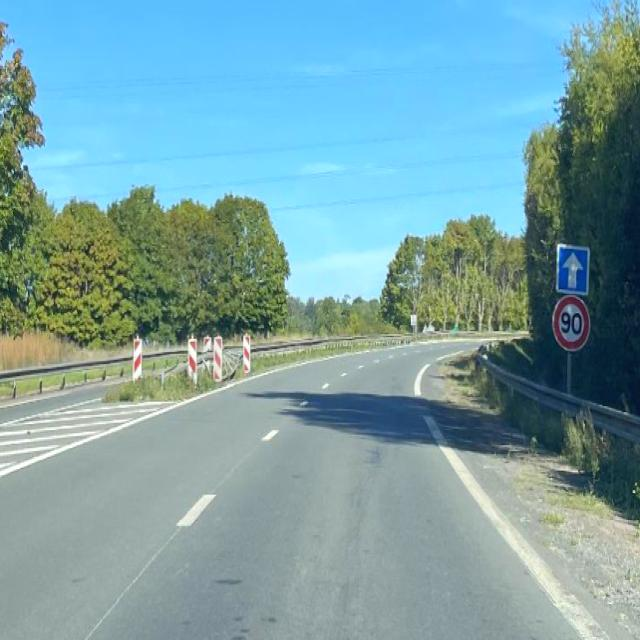speed_90: (553, 297, 590, 350)
